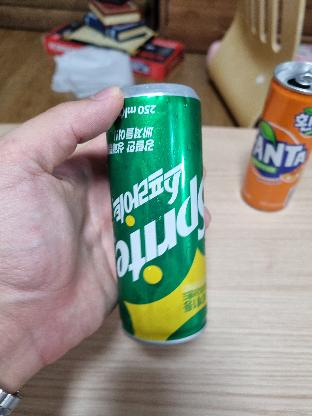Can: (105, 74, 221, 352)
